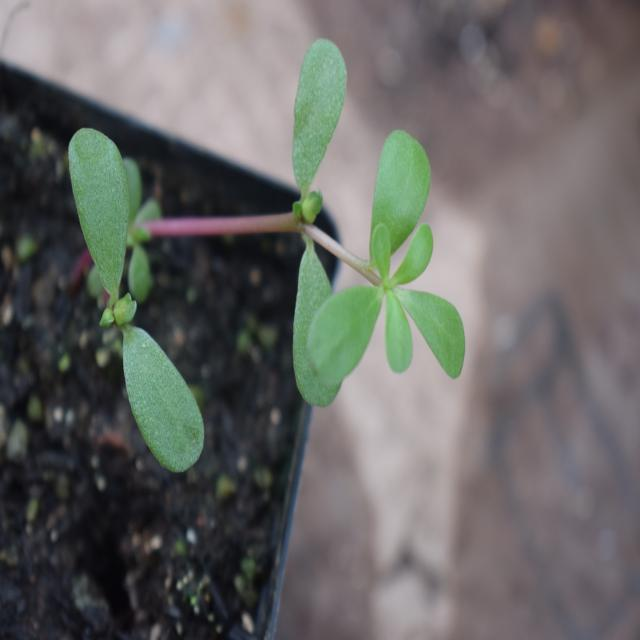purslane: (45, 42, 480, 451)
